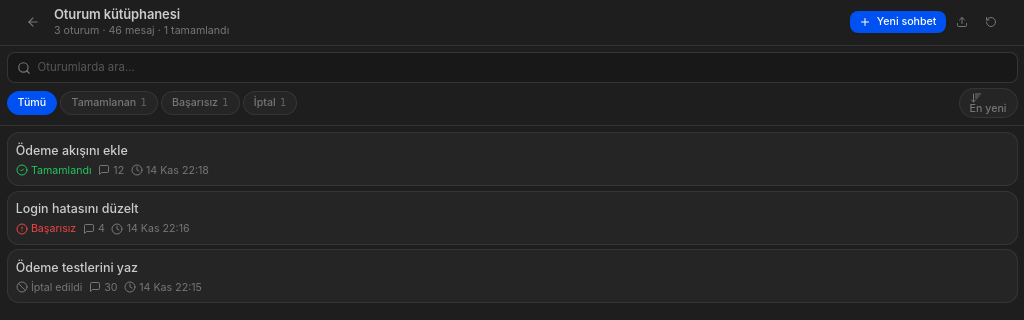
Test: HistoryView: durum filtresi › yalnızca tamamlanan oturumları gösterir
The width and height of the screenshot is (1024, 320).
Expected: the text "Ödeme akışını ekle" is shown, [16,143,128,158]
Click the button "Tamamlanan 1" at x=109, y=103, box [60,91,158,115]
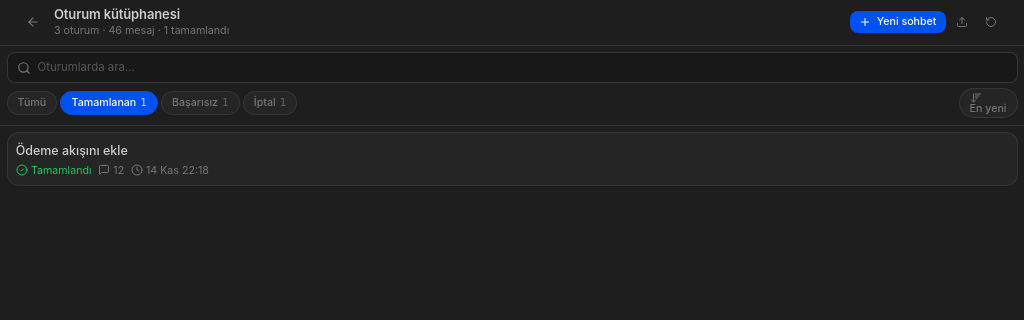
Expected: the text "Ödeme akışını ekle" is shown, [16,143,128,158]
Now the button "Login hatasını düzelt" is gone
Now the button "Ödeme testlerini yaz" is gone
